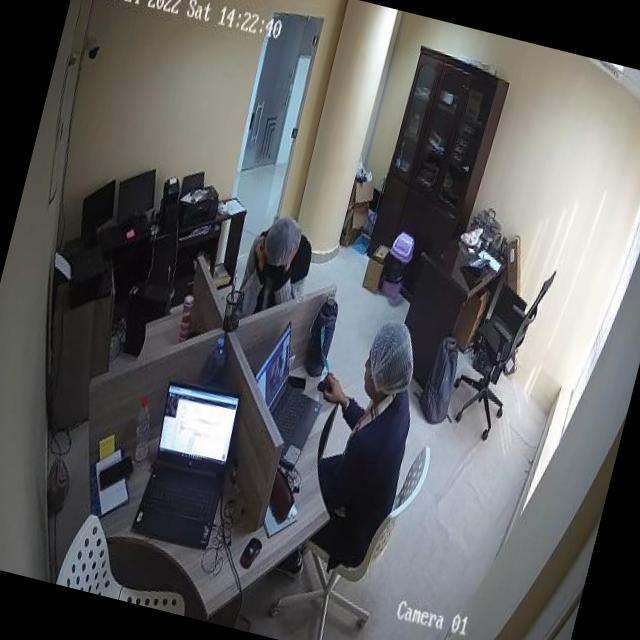hairnet: (364, 322, 422, 396), (260, 212, 304, 272)
